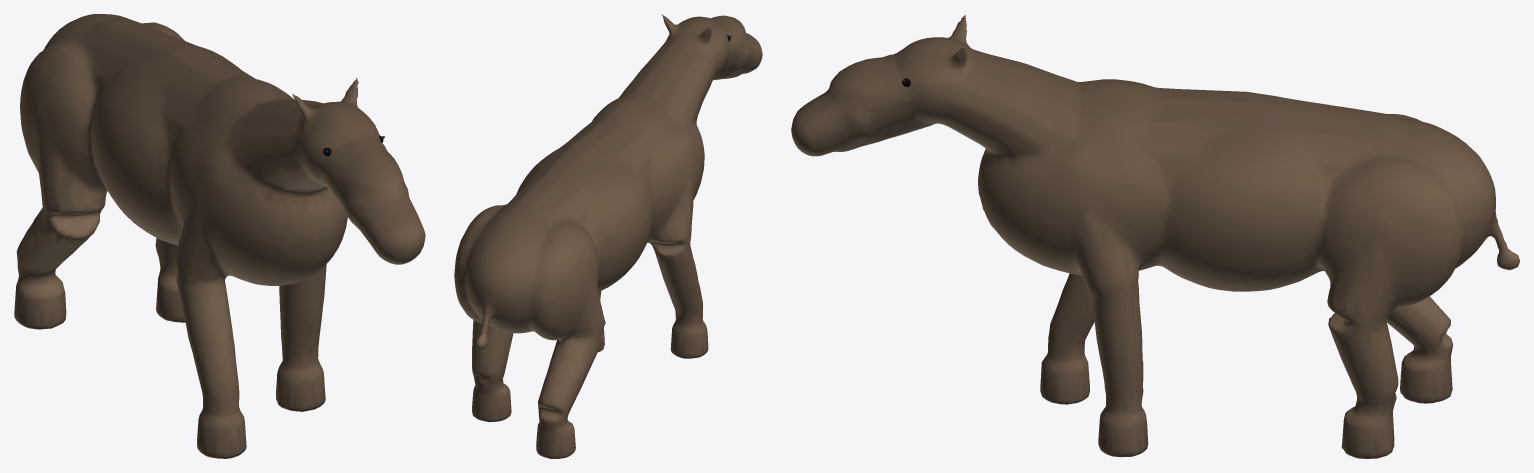
File: UrtinotheriumIncisivum.fbx
3 renders of one model, left to right at view 1: azimuth 30°, elevation 25°; view 2: azimuth 150°, elevation 25°; view 3: azimuth 270°, elevation 25°, orthographic. The views are drawn at different scales.
Visible parts, largest first — view 1: UrtinotheriumIncisivum; view 2: UrtinotheriumIncisivum; view 3: UrtinotheriumIncisivum.
Part boxes in pixels (<box>): UrtinotheriumIncisivum: <box>14,14,425,458</box>; UrtinotheriumIncisivum: <box>454,14,762,458</box>; UrtinotheriumIncisivum: <box>791,14,1519,458</box>.
Size of the model in its own units: 0.7407 by 1.64 by 2.76.
